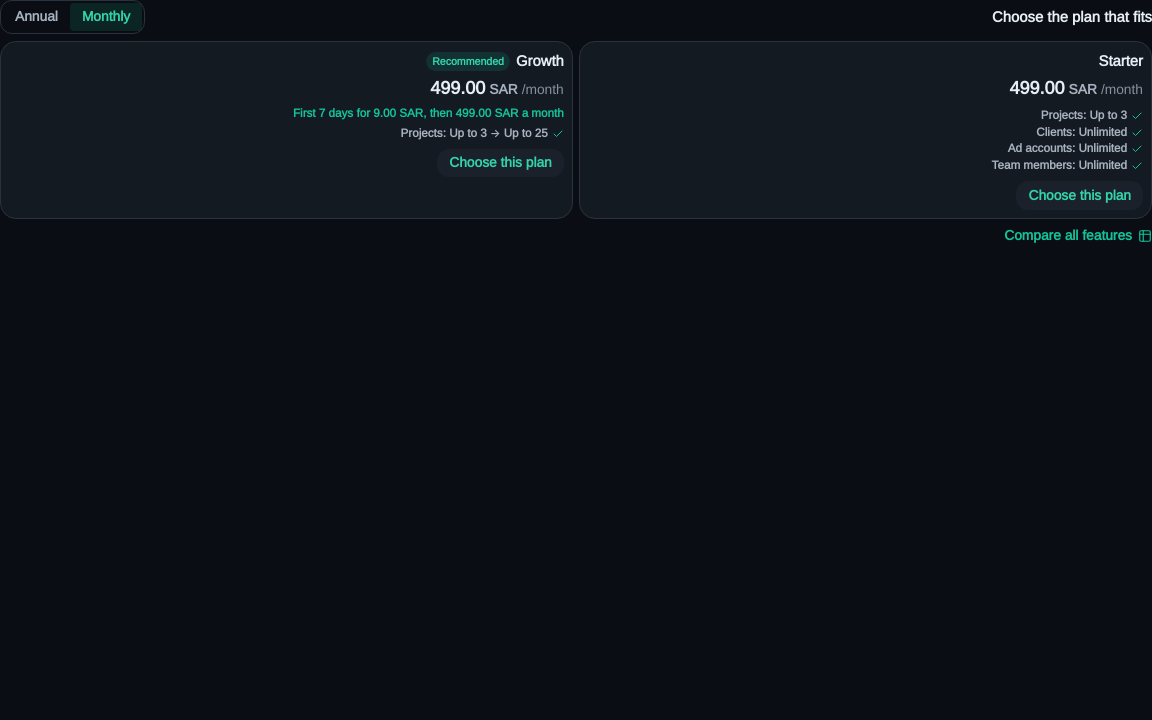
PlanChooser › puts the whole comparison behind one press
This screenshot has width=1152, height=720.
What coordinates should you click on to do the following:
click the button with test id "plan-compare-open"
I would click on:
 (1078, 236)
Its box is [1004, 226, 1151, 246].
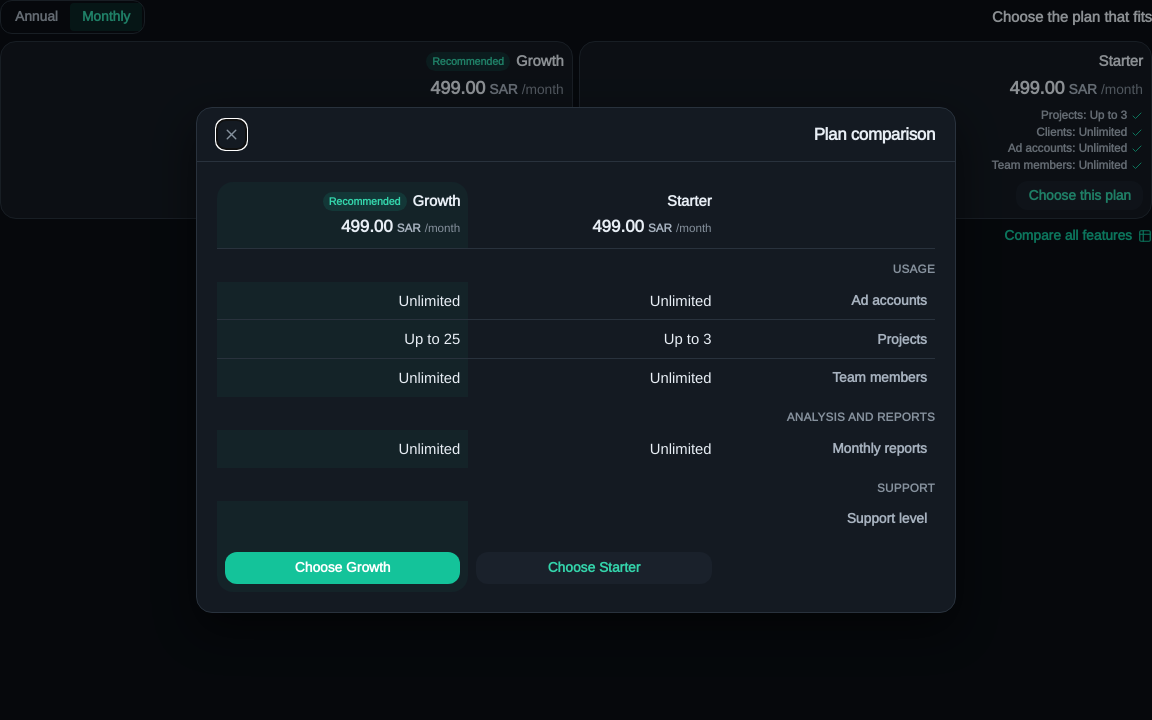
Check: the element with test id "plan-comparison" is shown, box [217, 182, 935, 592]
Check: the cell with test id "compare-projects-starter" shows "3", box [664, 330, 712, 347]
Check: the cell with test id "compare-projects-growth" shows "25", box [404, 330, 460, 347]
